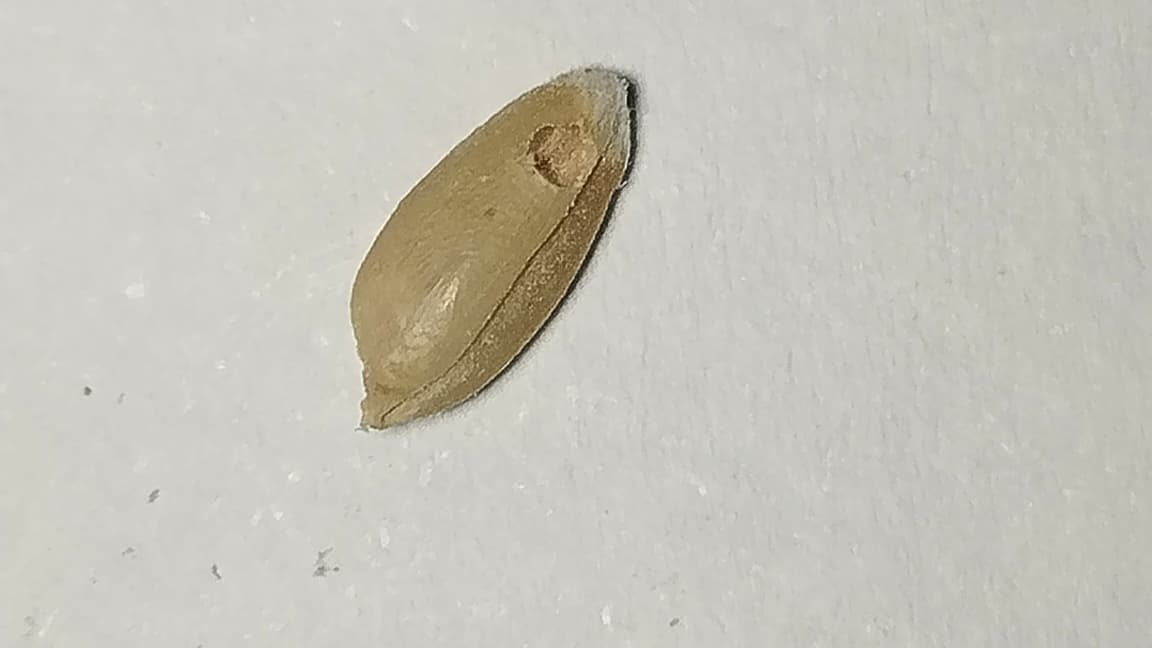damage: (351, 67, 635, 428)
insectdamage: (511, 115, 602, 210)
